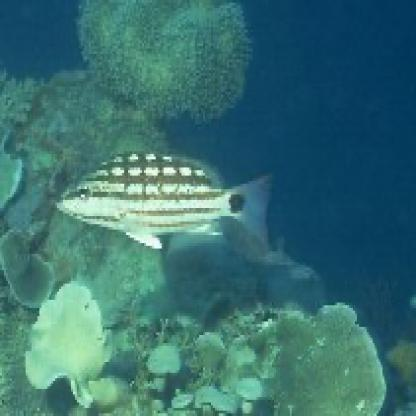snapper: (52, 147, 275, 255)
